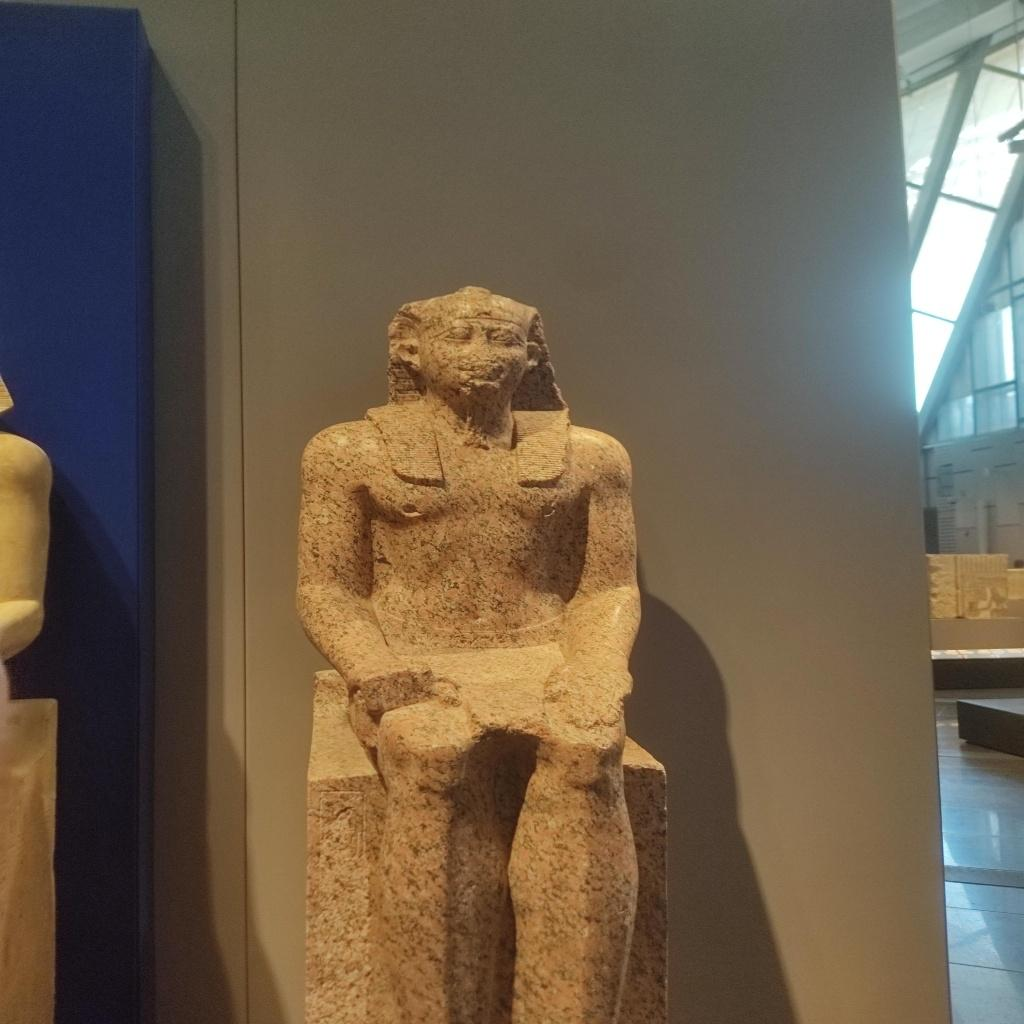Statue of Amenmhat I: (292, 283, 672, 1021)
